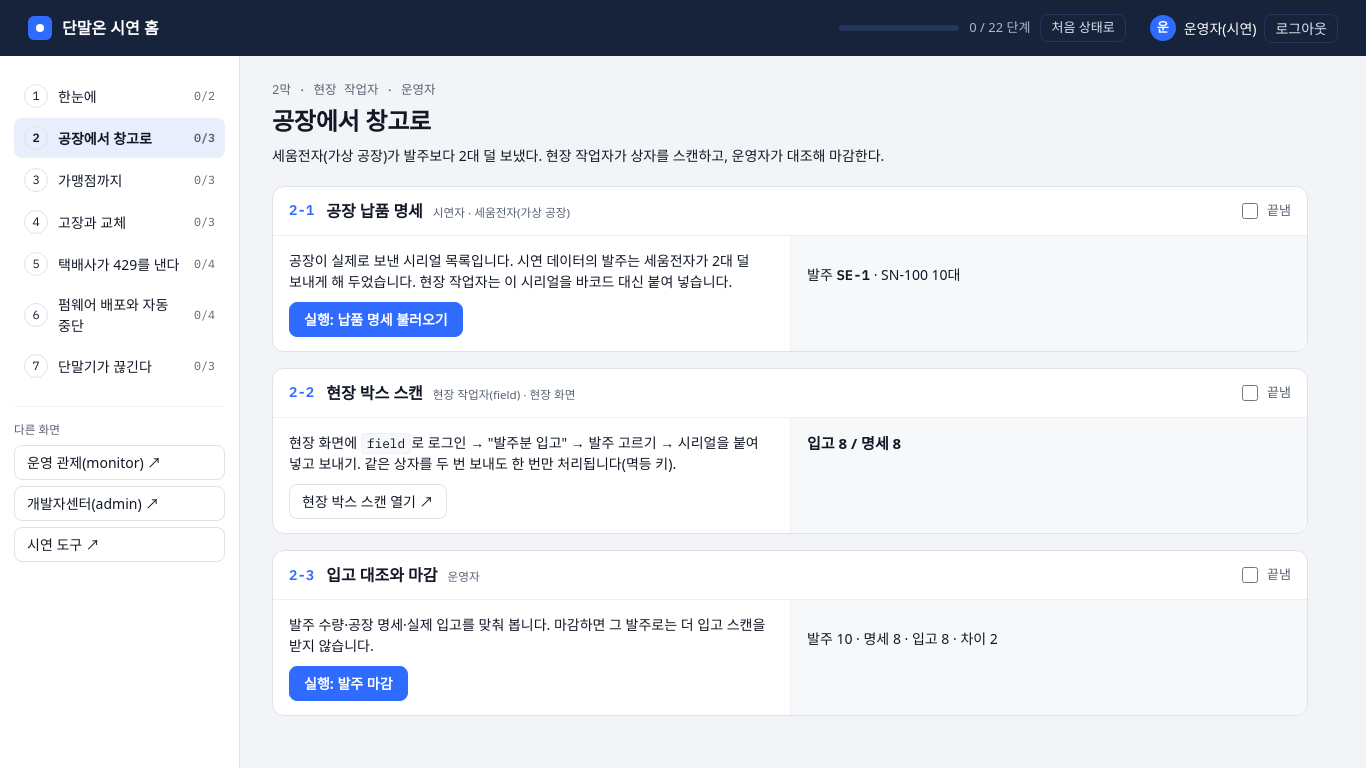
Scenario: 막 2 공장에서 창고로 › 마감 뒤 새 발주를 내면 그 새 발주로 넘어간다(마감한 발주에 머물지 않게 — 최종 검토). 새 발주는 2-1을 끝냄으로 표시하지 않는다
Click the button "실행: 발주 마감" at (348, 684), box [289, 666, 408, 701]
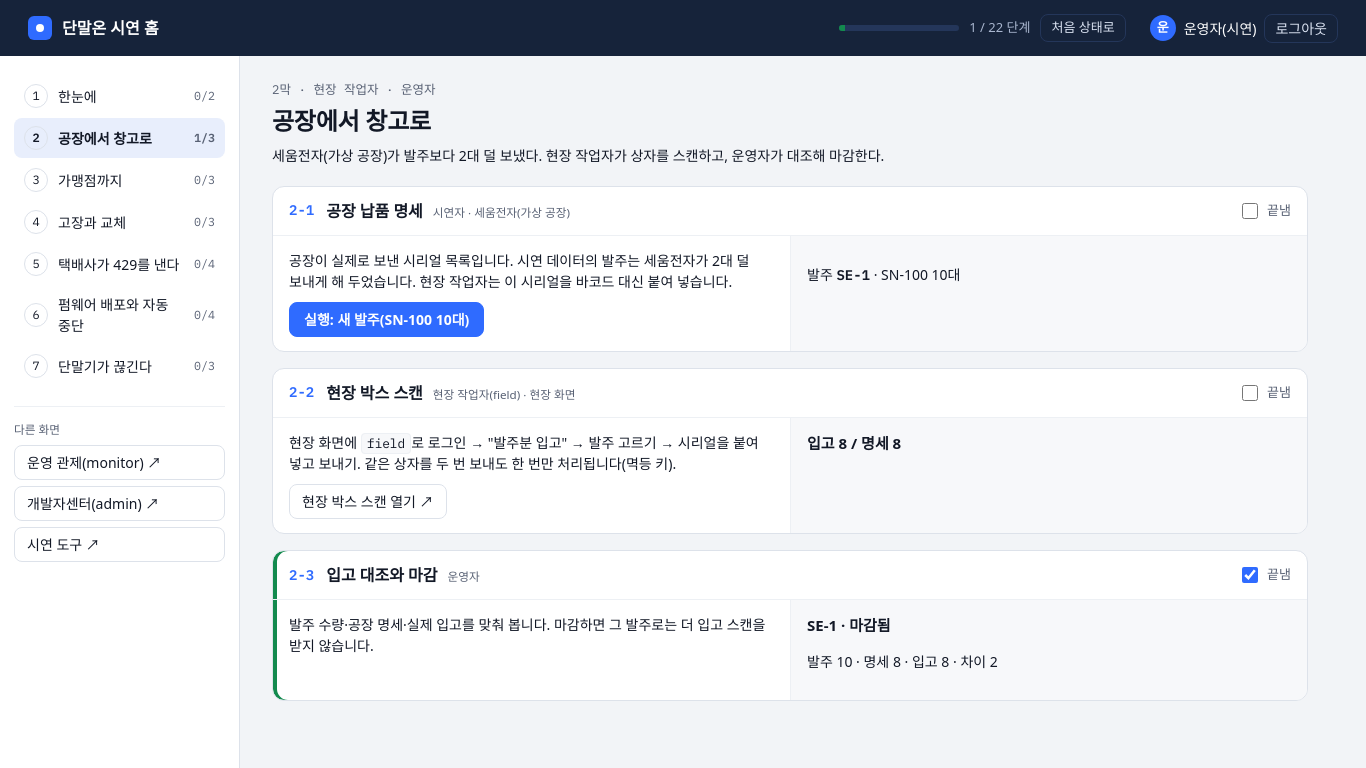
Click the button "실행: 새 발주(SN-100 10대)" at (387, 319), box [289, 302, 484, 337]
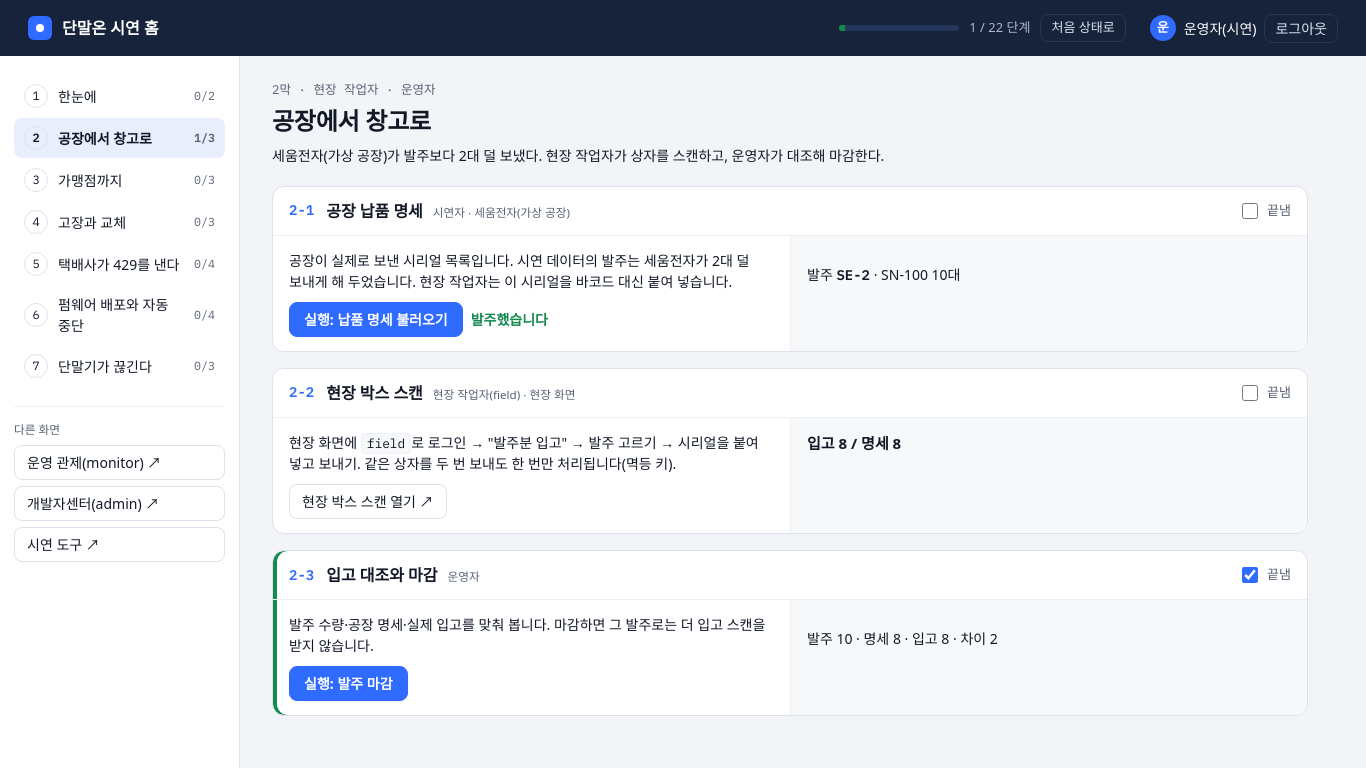
Expected: the checkbox labelled "끝냄" in the row of "시연자 · 세움전자(가상 공장)" is not checked, [1242, 203, 1258, 219]
Expected: the button "실행: 납품 명세 불러오기" is shown, [289, 302, 463, 337]
Expected: the text "SE-2" is shown, [836, 266, 870, 284]
